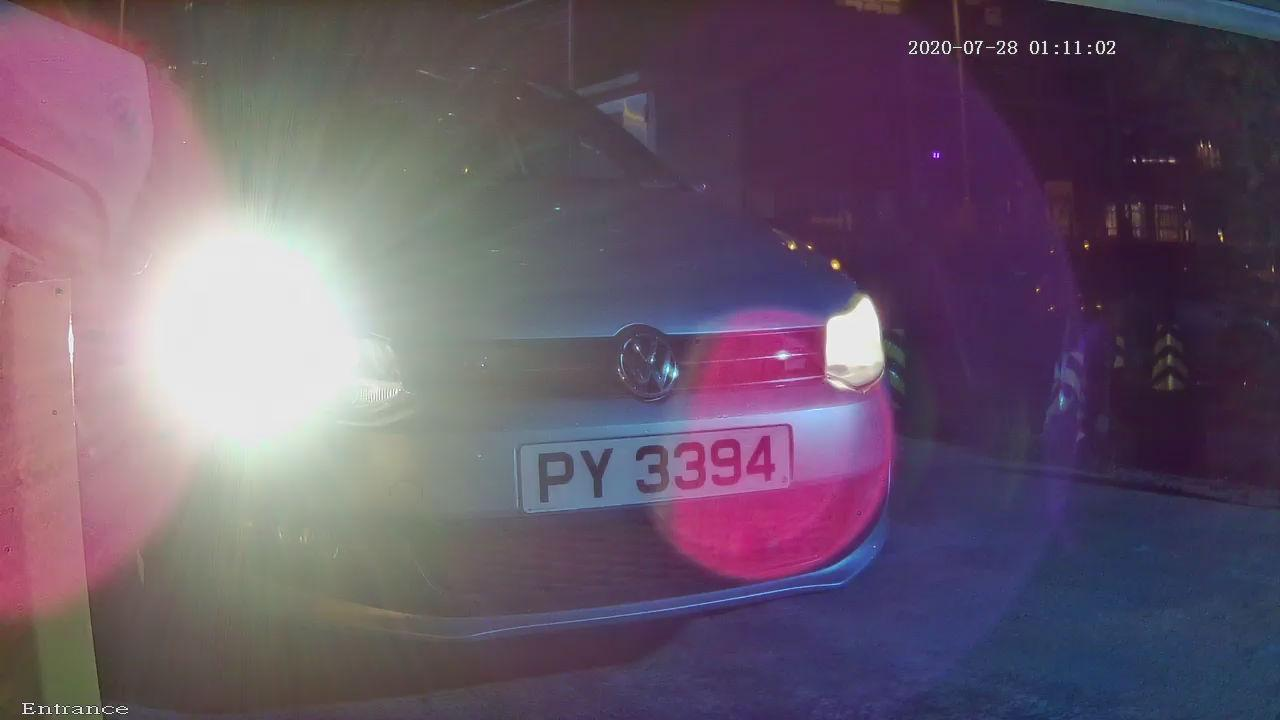privatecar: (23, 10, 1035, 708)
